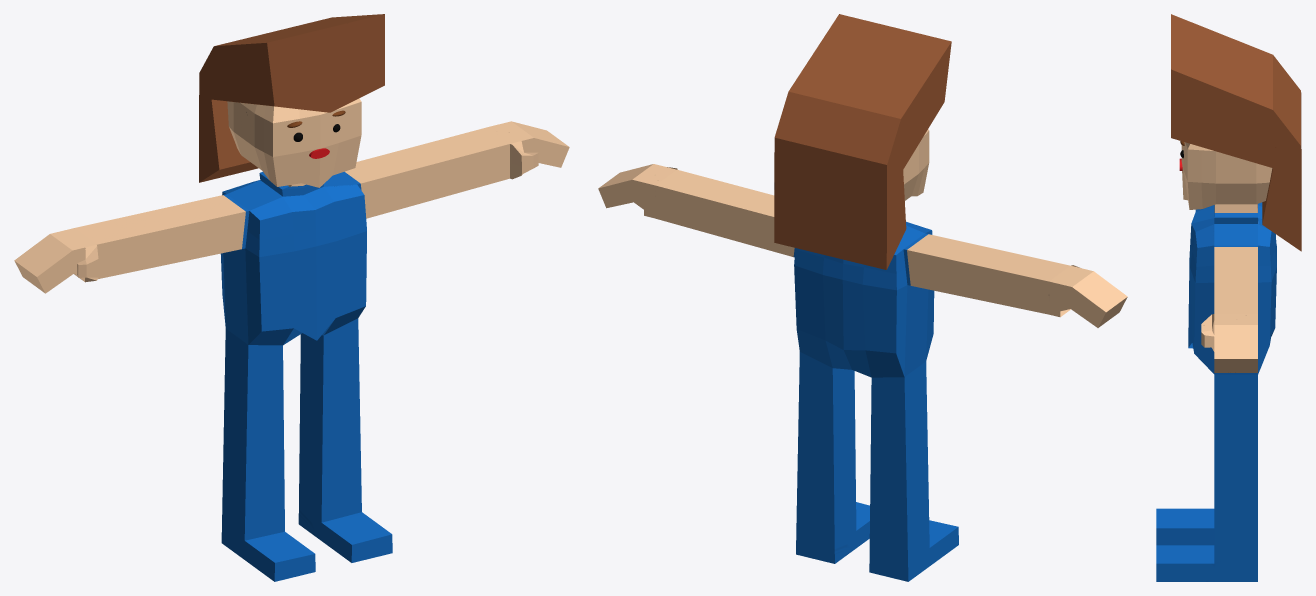
File: CHARACTER.glb
3 renders of one model, left to right at view 1: azimuth 30°, elevation 25°; view 2: azimuth 150°, elevation 25°; view 3: azimuth 270°, elevation 25°, orthographic. The views are drawn at different scales.
Visible parts, largest first — view 1: Cubo; view 2: Cubo; view 3: Cubo.
Boxes of the visible parts, x1,y1,x2,y2 form: Cubo: [14, 14, 569, 581]; Cubo: [598, 14, 1127, 581]; Cubo: [1156, 14, 1301, 581].
Size of the model in its own units: 9.03 by 8.64 by 2.22.
4 materials, 1 textured.
